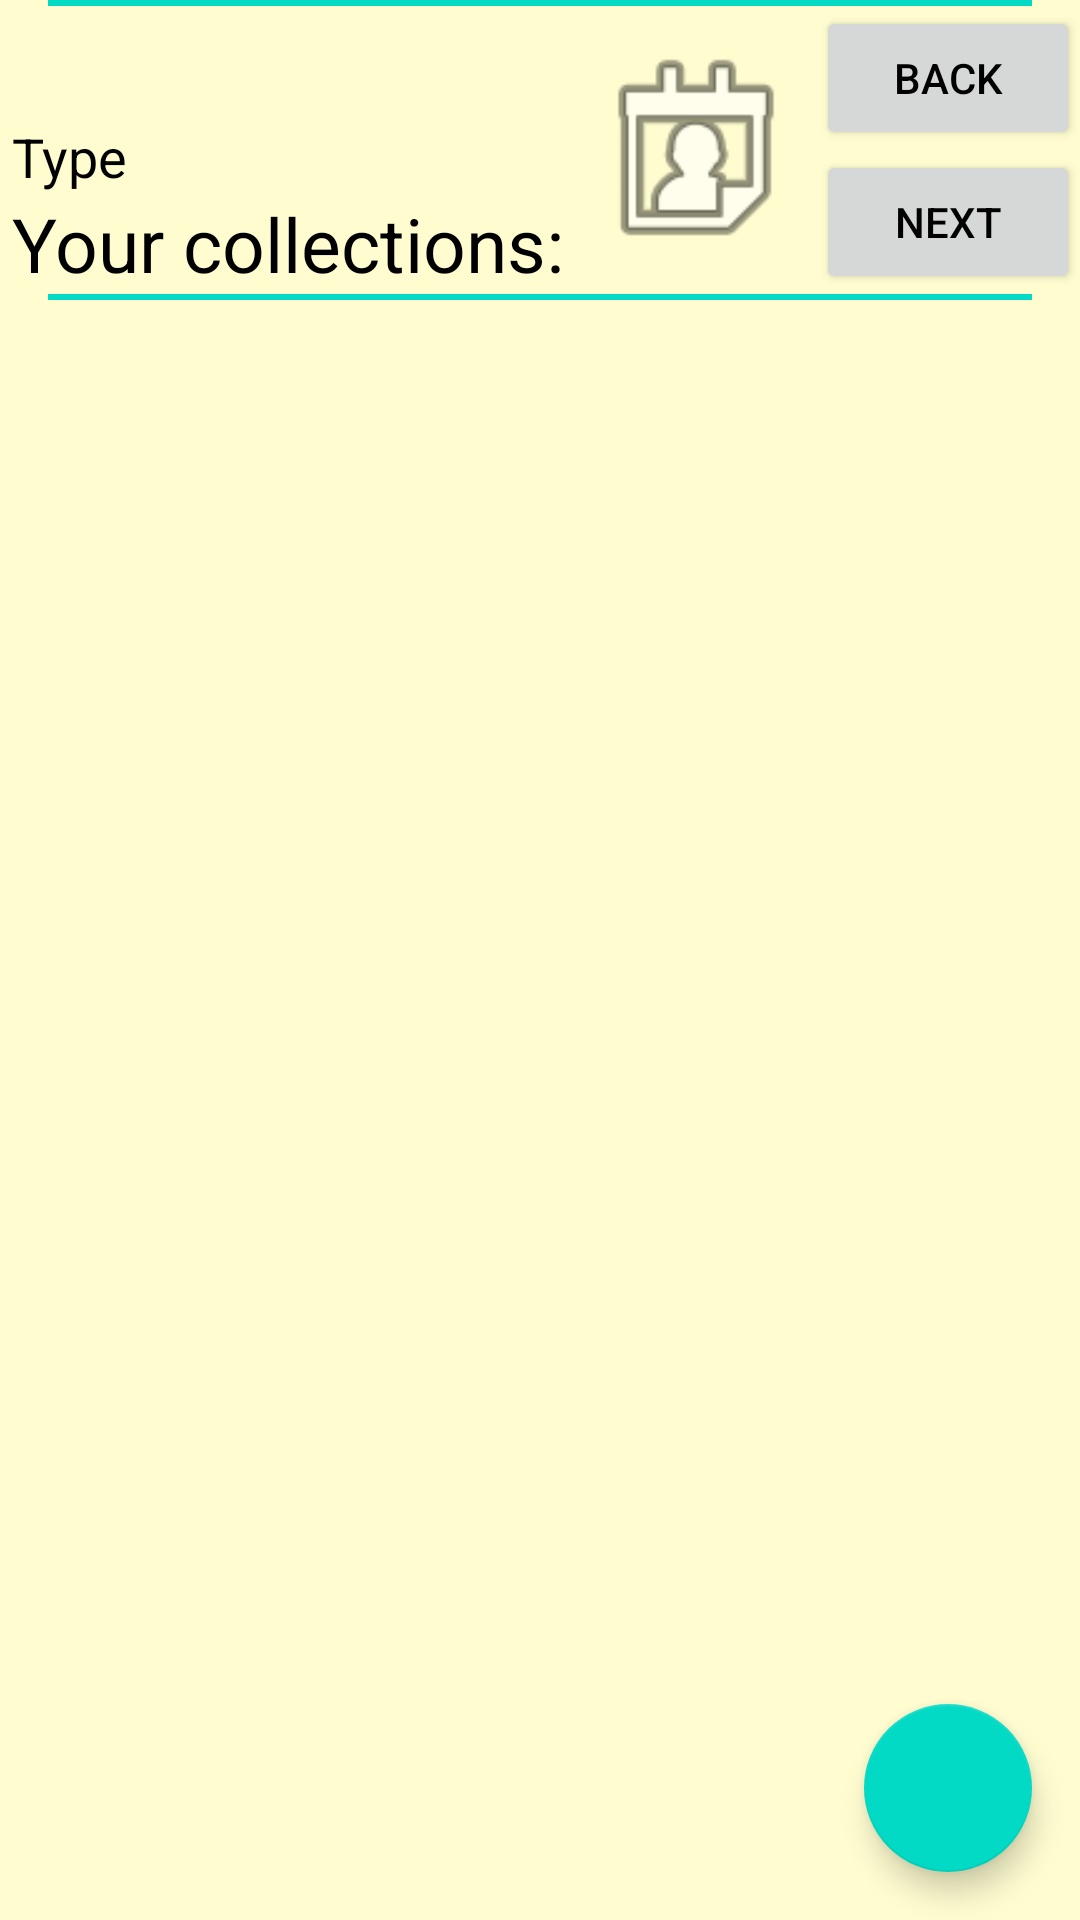

Icon click points for this 1080×1920 phone screenshot, format (x,y):
calendar: (696,147)
